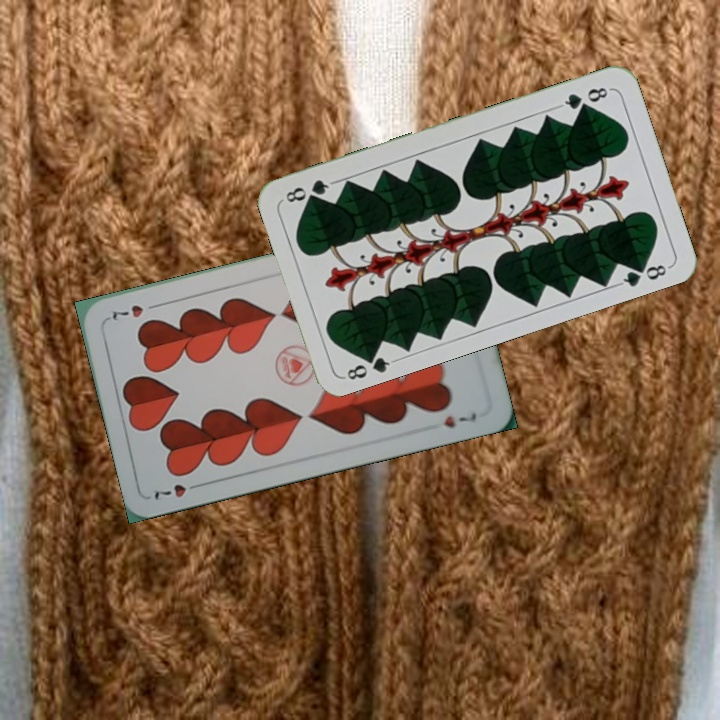G8: (341, 347, 398, 383), (556, 83, 613, 112)
H7: (149, 478, 206, 502)
